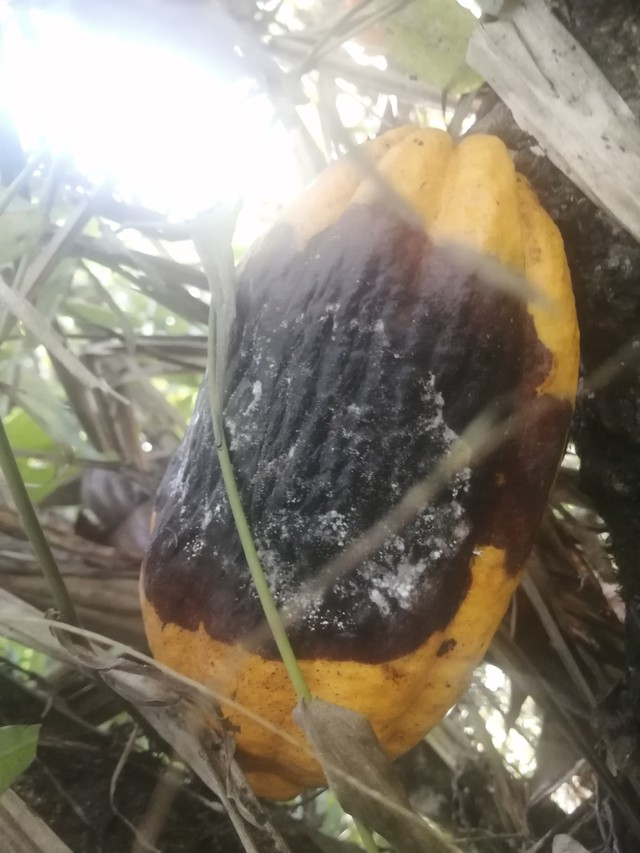moniliophthora roreri: (112, 109, 590, 805)
